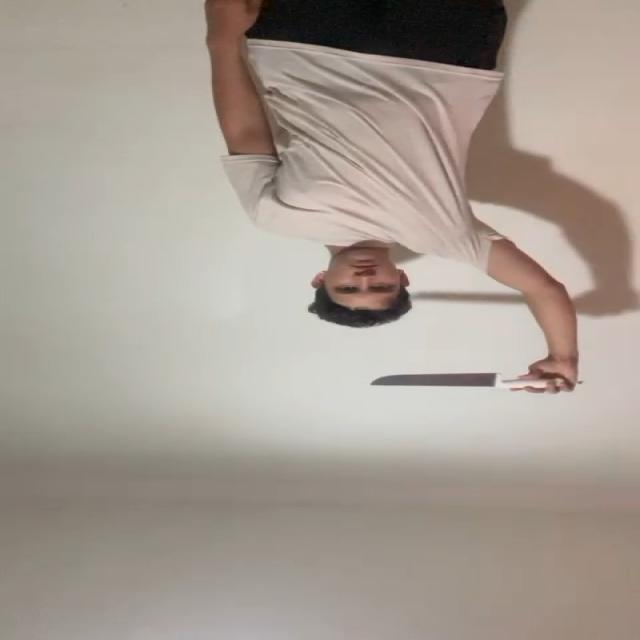knife: (367, 373, 498, 391)
